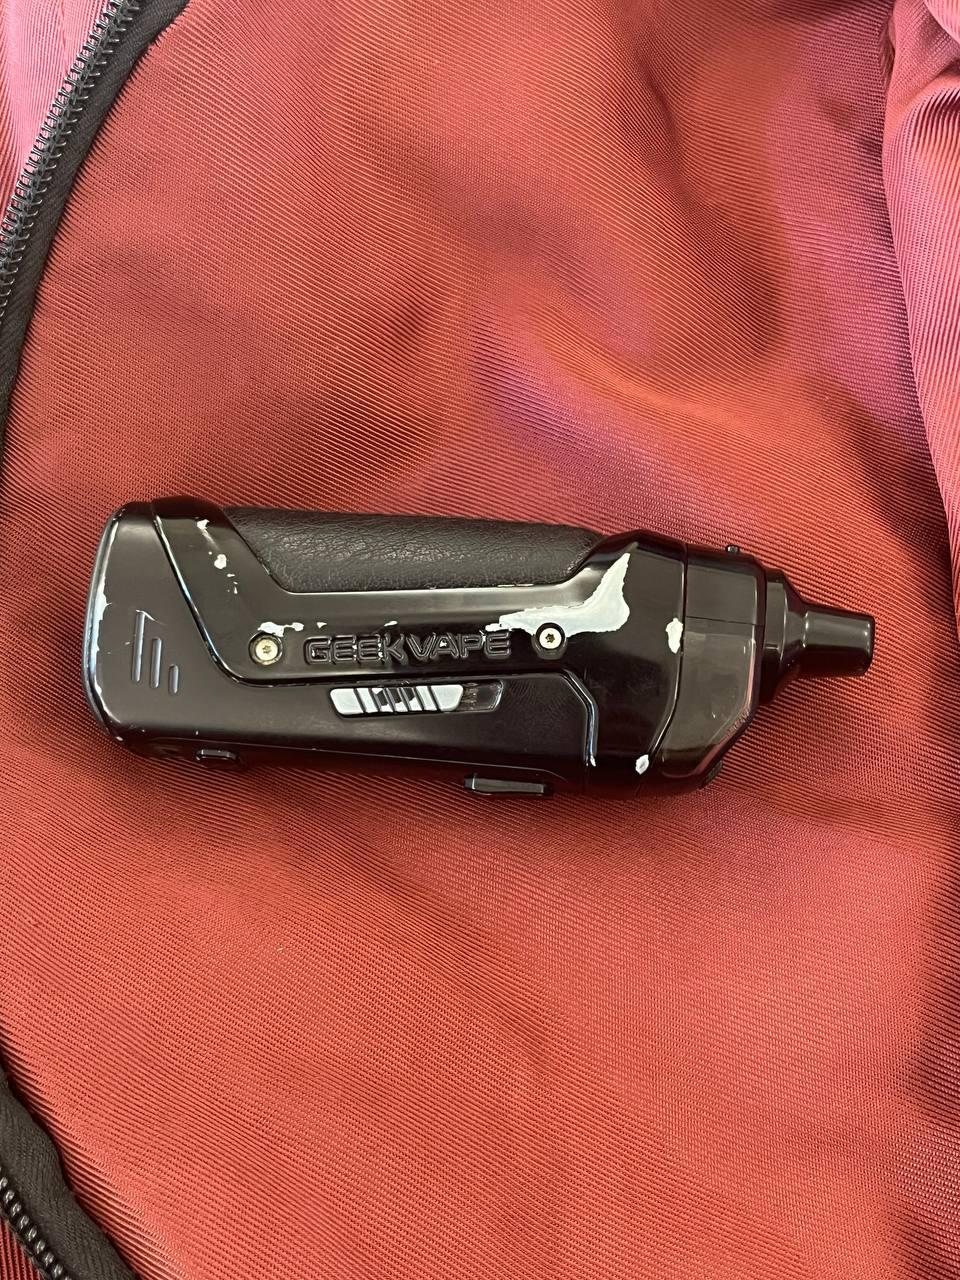Vape: (82, 497, 874, 782)
